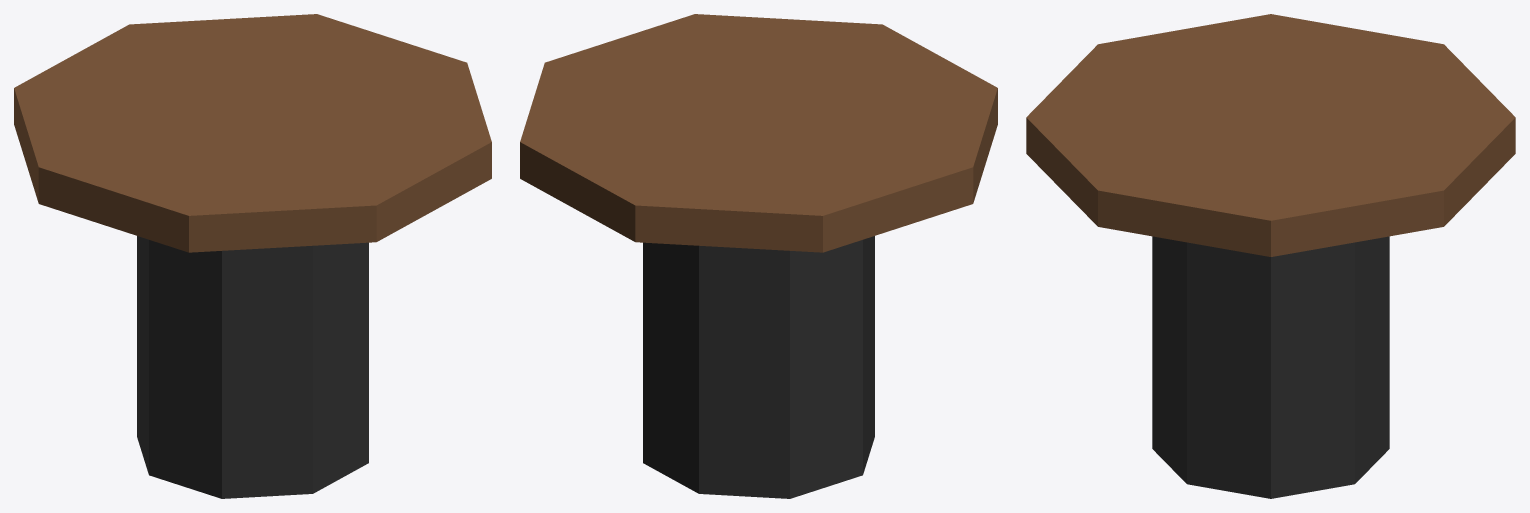
File: BeansTable.fbx
The picture shows the model from 3 angles, left to right: view 1: azimuth 30°, elevation 25°; view 2: azimuth 150°, elevation 25°; view 3: azimuth 270°, elevation 25°; orthographic projection.
Parts seen in each view (by area): view 1: BeansTable; view 2: BeansTable; view 3: BeansTable.
Boxes of the visible parts, x1,y1,x2,y2 form: BeansTable: [14, 14, 491, 498]; BeansTable: [520, 14, 997, 498]; BeansTable: [1026, 14, 1515, 498].
Size of the model in its own units: 255 by 191 by 255.
